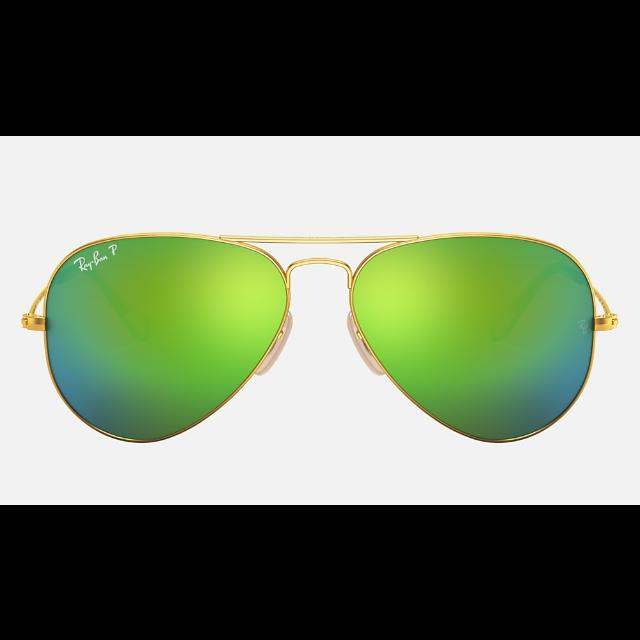Sunglasses: (25, 233, 617, 442)
